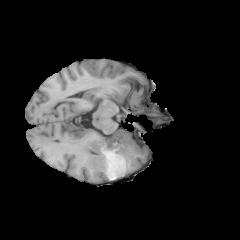glioma: (86, 132, 140, 181)
